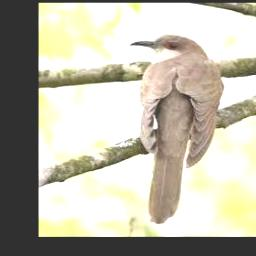Cuckoo: (130, 34, 223, 224)
